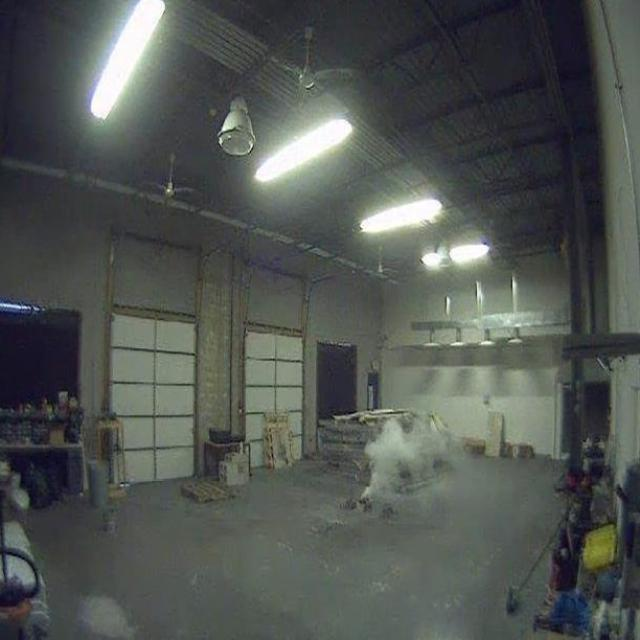fire: (357, 410, 462, 508)
